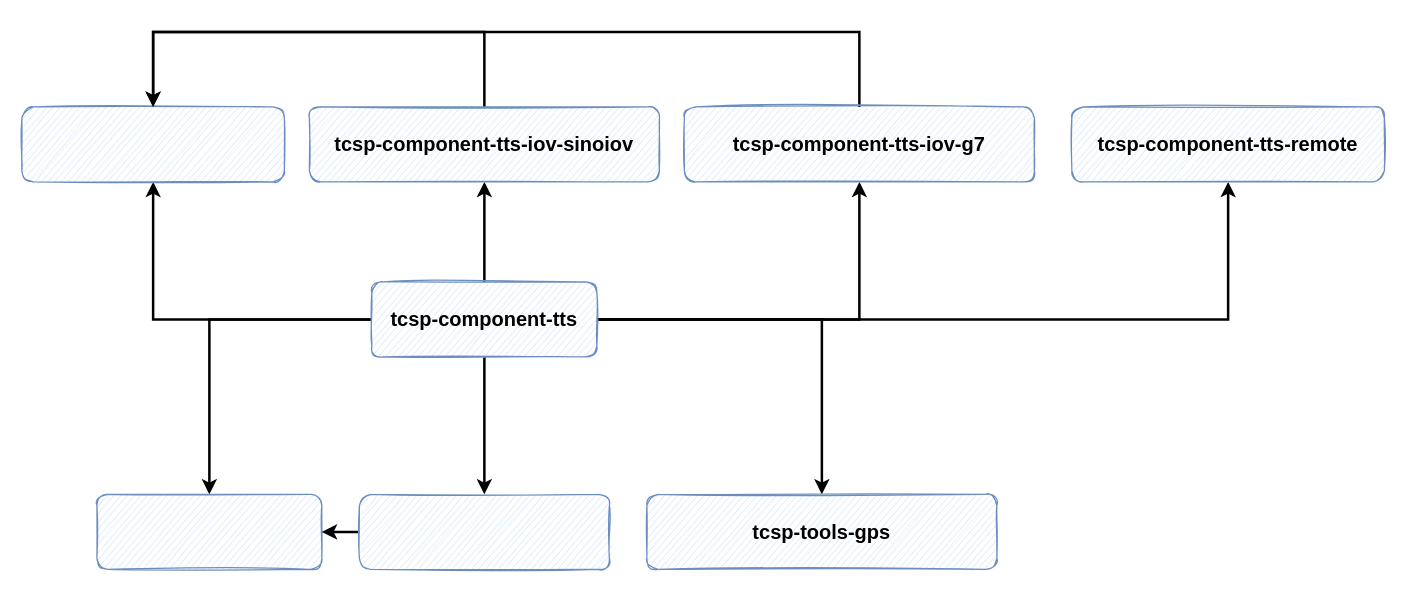
This 1406x591 diagram has some shape labels left out. The box of each missing label's shape, as (x1, y1, x2, y2) in pixels:
tcsp-component-base: (358, 493, 609, 569)
tcsp-component-tts-iov: (21, 106, 284, 182)
tcsp-framework: (96, 493, 322, 569)
